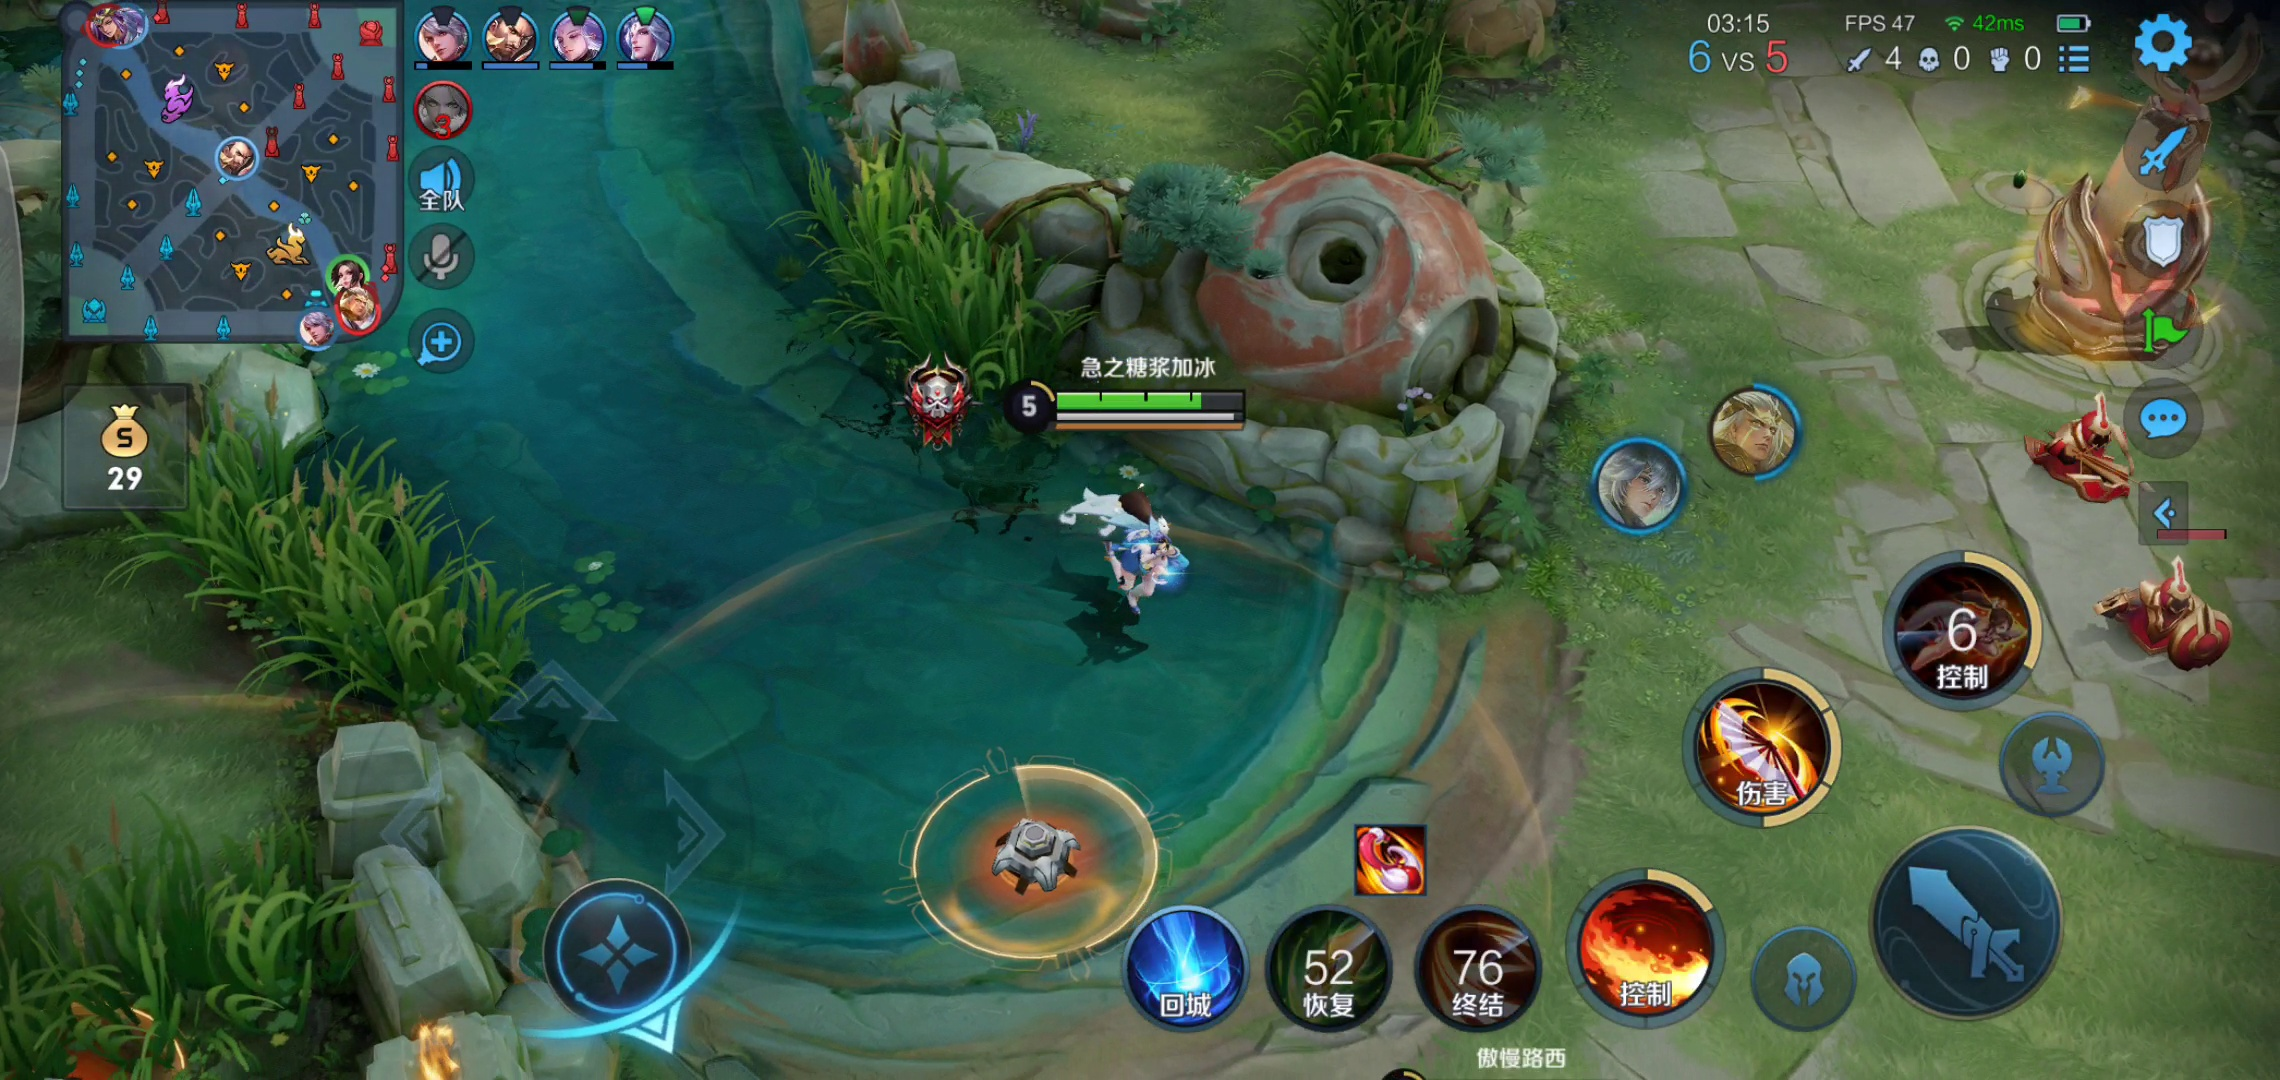grass: (99, 427, 531, 706), (6, 810, 382, 1080), (774, 132, 1048, 414), (1278, 1, 1485, 180)
hero: (1056, 474, 1197, 619)
soldier: (2092, 532, 2233, 672), (2010, 392, 2143, 501)
tower: (1970, 9, 2280, 369)
